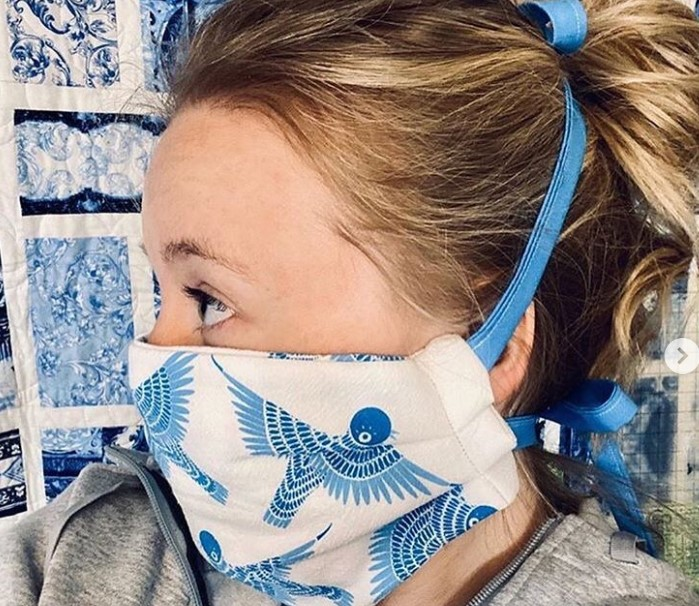face_with_mask: (123, 8, 630, 606)
